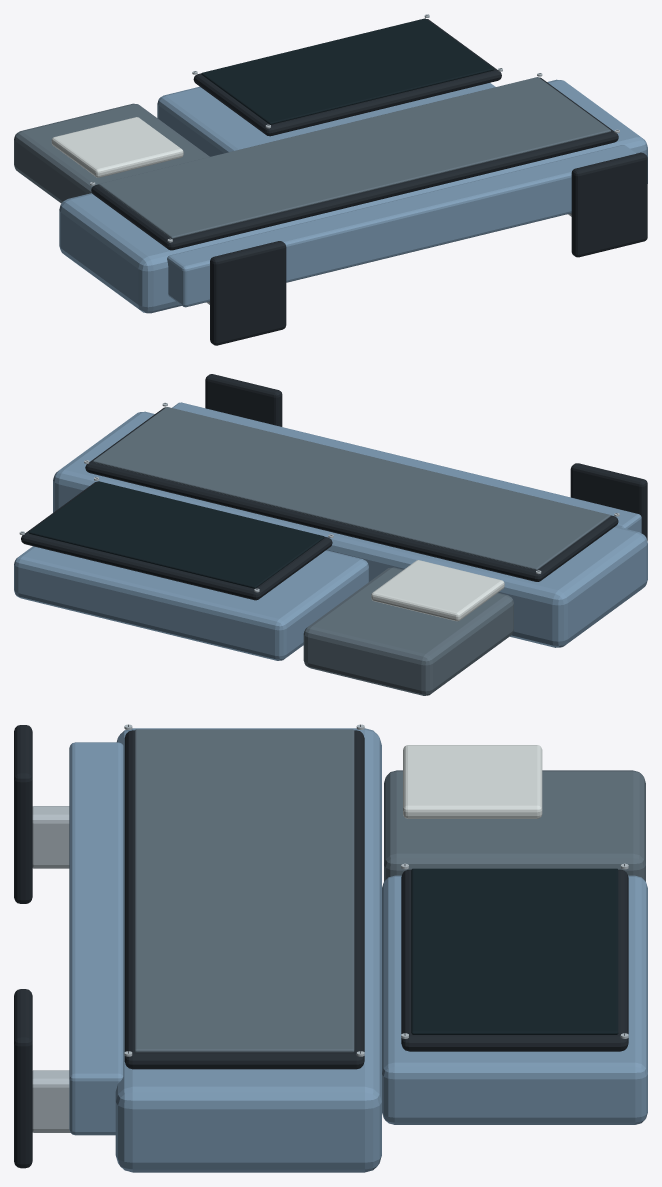
The model's file is warehouse.glb.
3 renders of one model, top to bottom at view 1: azimuth 30°, elevation 25°; view 2: azimuth 150°, elevation 25°; view 3: azimuth 270°, elevation 25°, orthographic. The views are drawn at different scales.
Parts seen in each view (by area): view 1: deck live content surface.017, Lower service fascia.004, screen live content surface.017, Dispatch desktop.001, Rubber machine foot.026, Rubber machine foot.027, deck mounting bezel.017, Terminal secondary module.001, Monitor surround.001, Equipment identity plate.017, screen mounting bezel.017; view 2: deck live content surface.017, Monitor surround.001, Dispatch desktop.001, screen live content surface.017, Terminal secondary module.001, deck mounting bezel.017, Equipment identity plate.017, Lower service fascia.004, screen mounting bezel.017, Rubber machine foot.026, Rubber machine foot.027; view 3: deck live content surface.017, Dispatch desktop.001, screen live content surface.017, Monitor surround.001, Lower service fascia.004, Terminal secondary module.001, deck mounting bezel.017, Equipment identity plate.017, screen mounting bezel.017, Rubber machine foot.027, Rubber machine foot.026, Support column.027 (+1 smaller).
Boxes of the visible parts, <box> form: deck live content surface.017: <box>99,77,610,238</box>; Lower service fascia.004: <box>167,145,635,307</box>; screen live content surface.017: <box>201,18,494,124</box>; Dispatch desktop.001: <box>59,79,647,313</box>; Rubber machine foot.026: <box>210,241,286,345</box>; Rubber machine foot.027: <box>571,152,647,257</box>; deck mounting bezel.017: <box>91,77,618,250</box>; Terminal secondary module.001: <box>14,103,209,203</box>; Monitor surround.001: <box>157,83,495,156</box>; Equipment identity plate.017: <box>51,117,183,177</box>; screen mounting bezel.017: <box>193,19,501,136</box>; deck live content surface.017: <box>93,407,610,570</box>; Monitor surround.001: <box>14,546,368,660</box>; Dispatch desktop.001: <box>53,411,647,647</box>; screen live content surface.017: <box>28,481,324,588</box>; Terminal secondary module.001: <box>303,567,513,695</box>; deck mounting bezel.017: <box>85,407,618,581</box>; Equipment identity plate.017: <box>371,560,504,621</box>; Lower service fascia.004: <box>172,402,641,533</box>; screen mounting bezel.017: <box>21,481,332,600</box>; Rubber machine foot.026: <box>570,463,647,540</box>; Rubber machine foot.027: <box>205,374,282,426</box>; deck live content surface.017: <box>134,729,354,1052</box>; Dispatch desktop.001: <box>115,728,381,1172</box>; screen live content surface.017: <box>411,868,618,1034</box>; Monitor surround.001: <box>382,875,647,1124</box>; Lower service fascia.004: <box>69,742,123,1135</box>; Terminal secondary module.001: <box>384,770,645,881</box>; deck mounting bezel.017: <box>124,730,364,1069</box>; Equipment identity plate.017: <box>403,745,542,818</box>; screen mounting bezel.017: <box>401,869,628,1051</box>; Rubber machine foot.027: <box>14,989,32,1168</box>; Rubber machine foot.026: <box>14,725,32,903</box>; Support column.027: <box>32,1070,70,1132</box>.
Size of the model in its own units: 10.4 by 1.75 by 7.5.
